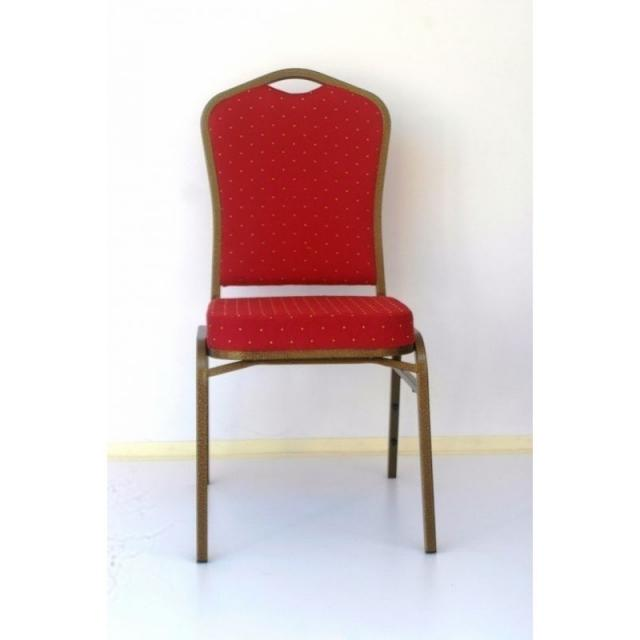Chair: (186, 68, 440, 571)
